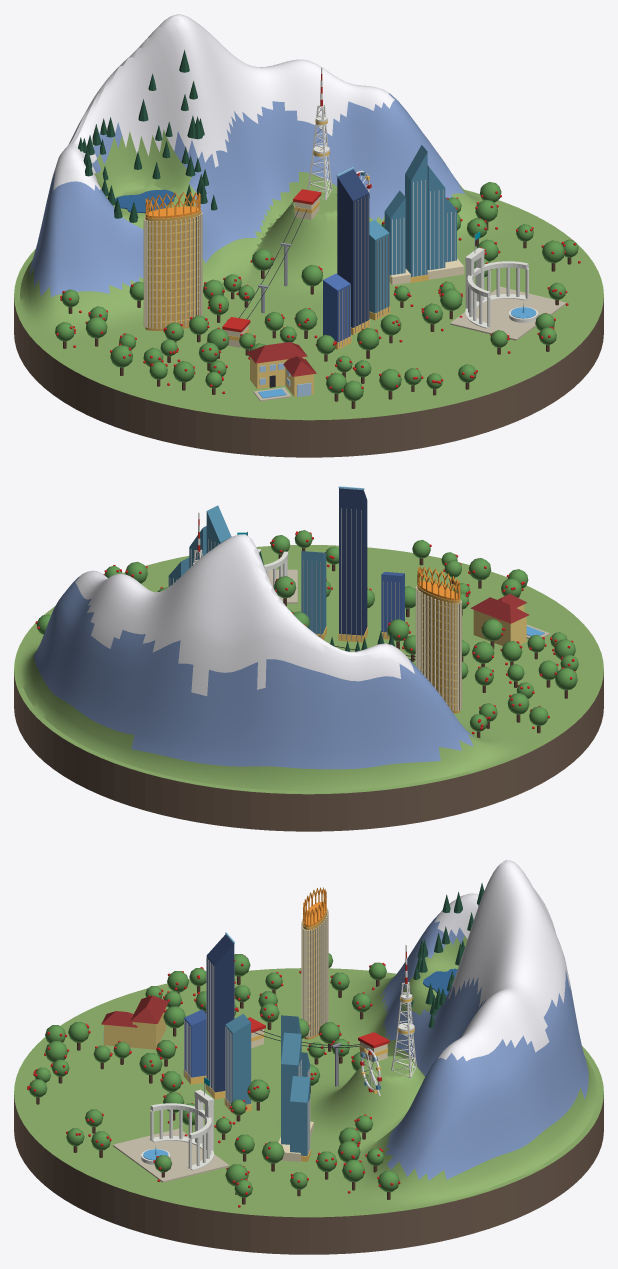
Rendered from almaty.glb.
The picture shows the model from 3 angles, top to bottom: view 1: azimuth 30°, elevation 25°; view 2: azimuth 150°, elevation 25°; view 3: azimuth 270°, elevation 25°; orthographic projection.
Visible parts, largest first — view 1: DECO-land, DECO-base, DECO-apple-trees, hk-body, hk-fins, af-tower-0, DECO-spruces, nt-tower-0, pg-plaza, nt-tower-1, af-tower-1, DECO-apples (+10 smaller); view 2: DECO-land, DECO-base, DECO-apple-trees, af-tower-0, hk-fins, hk-body, af-tower-1, af-tower-2, home-main, hk-crown, DECO-apples, home-main-roof (+1 smaller); view 3: DECO-land, DECO-base, DECO-apple-trees, af-tower-0, hk-fins, pg-plaza, af-tower-1, DECO-spruces, nt-tower-3, nt-tower-1, DECO-apples, af-tower-2 (+7 smaller).
Part boxes in pixels (x1,y1,x2,y2): DECO-land: [15, 14, 602, 419]; DECO-base: [14, 189, 603, 457]; DECO-apple-trees: [55, 182, 578, 408]; hk-body: [145, 210, 201, 330]; hk-fins: [143, 212, 202, 328]; af-tower-0: [337, 169, 369, 327]; DECO-spruces: [78, 50, 217, 222]; nt-tower-0: [405, 145, 427, 277]; pg-plaza: [450, 286, 566, 340]; nt-tower-1: [427, 165, 445, 270]; af-tower-1: [369, 219, 389, 313]; DECO-apples: [56, 191, 580, 394]; DECO-land: [15, 534, 601, 793]; DECO-base: [14, 545, 603, 831]; DECO-apple-trees: [36, 530, 578, 737]; af-tower-0: [339, 488, 367, 635]; hk-fins: [415, 586, 461, 711]; hk-body: [417, 585, 460, 713]; af-tower-1: [301, 551, 326, 634]; af-tower-2: [381, 572, 404, 632]; home-main: [473, 610, 526, 645]; hk-crown: [417, 566, 460, 600]; DECO-apples: [35, 531, 575, 734]; home-main-roof: [470, 597, 529, 623]; DECO-land: [17, 860, 602, 1216]; DECO-base: [14, 968, 603, 1254]; DECO-apple-trees: [29, 953, 399, 1204]; af-tower-0: [206, 934, 234, 1092]; hk-fins: [301, 908, 328, 1037]; pg-plaza: [113, 1128, 229, 1182]; af-tower-1: [225, 1013, 250, 1104]; DECO-spruces: [406, 883, 484, 1027]; nt-tower-3: [290, 1076, 310, 1155]; nt-tower-1: [281, 1032, 301, 1144]; DECO-apples: [27, 955, 400, 1207]; af-tower-2: [184, 1009, 206, 1077].
Size of the model in its own units: 2 by 0.9458 by 2.
